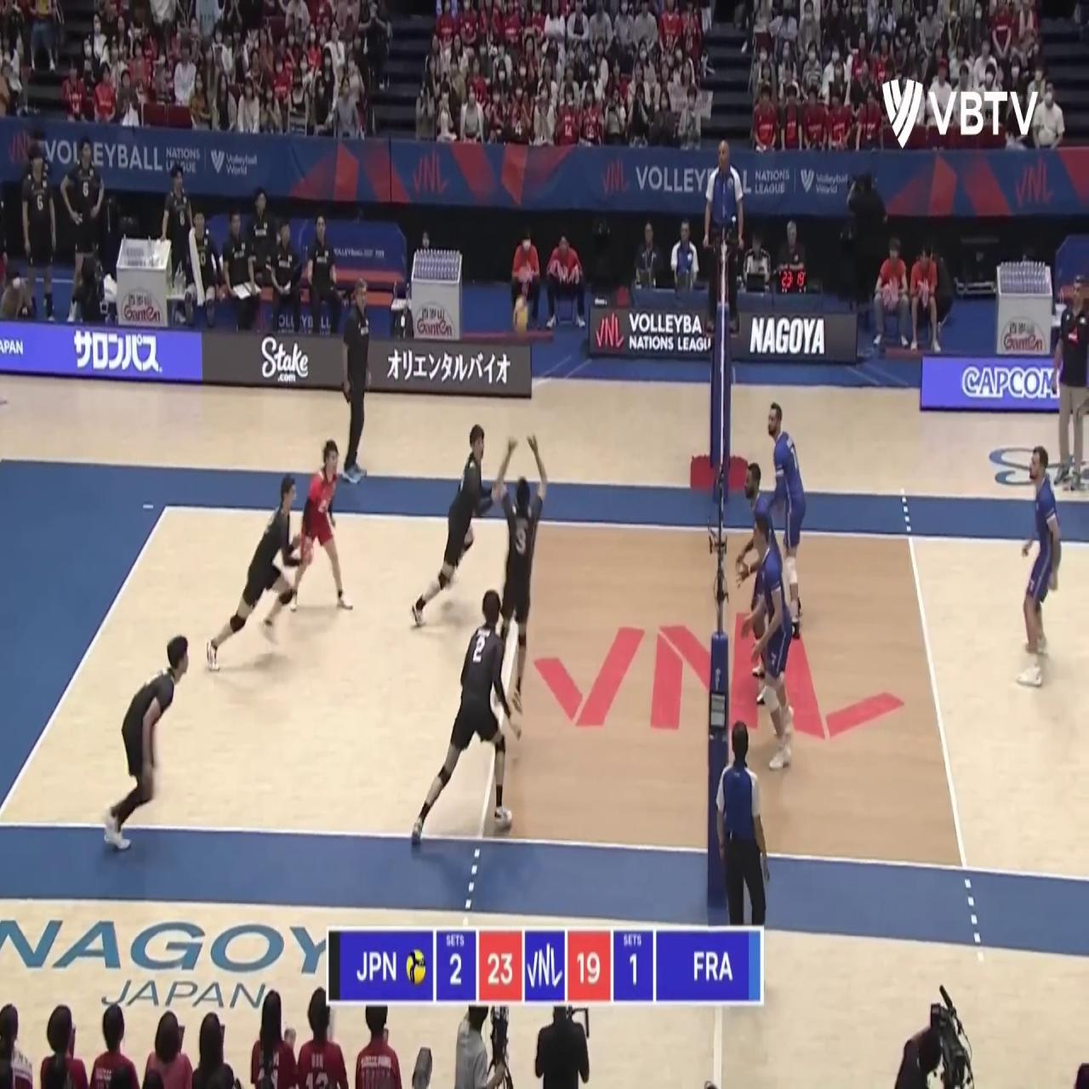ball: (510, 296, 531, 336)
